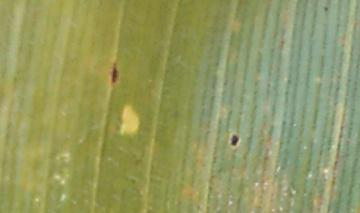tarspot: (111, 64, 118, 86), (229, 134, 240, 147), (323, 5, 330, 12)
